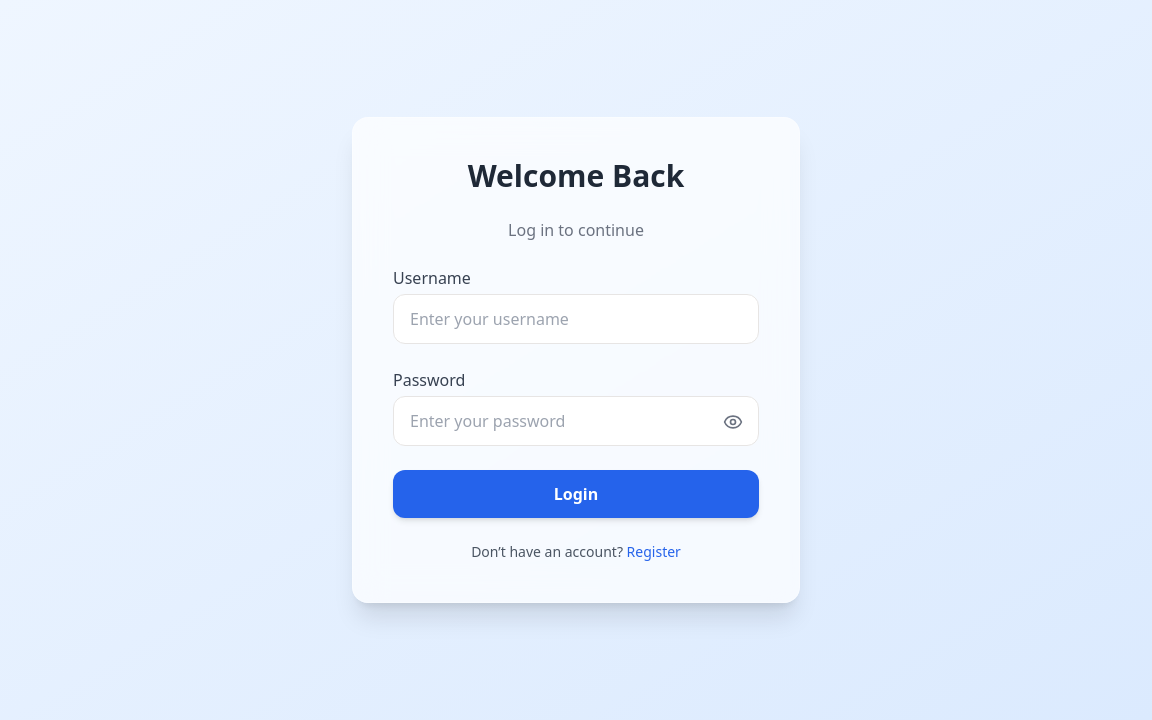
LoginPage › displays error on failed login
Step 1. Type "wronguser" into the field with placeholder "Enter your username" → (576, 319), box [393,294,759,344]
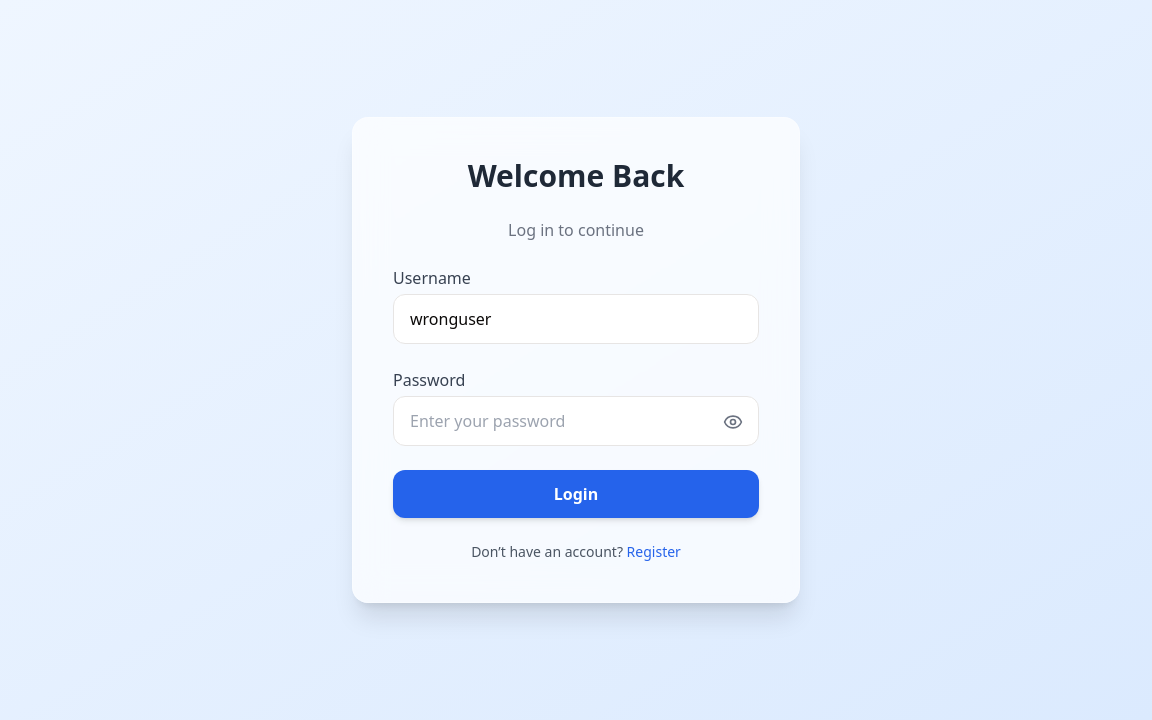
Step 2. Type "wrongpassword" into the password field with placeholder "Enter your password" → (576, 421), box [393,396,759,446]
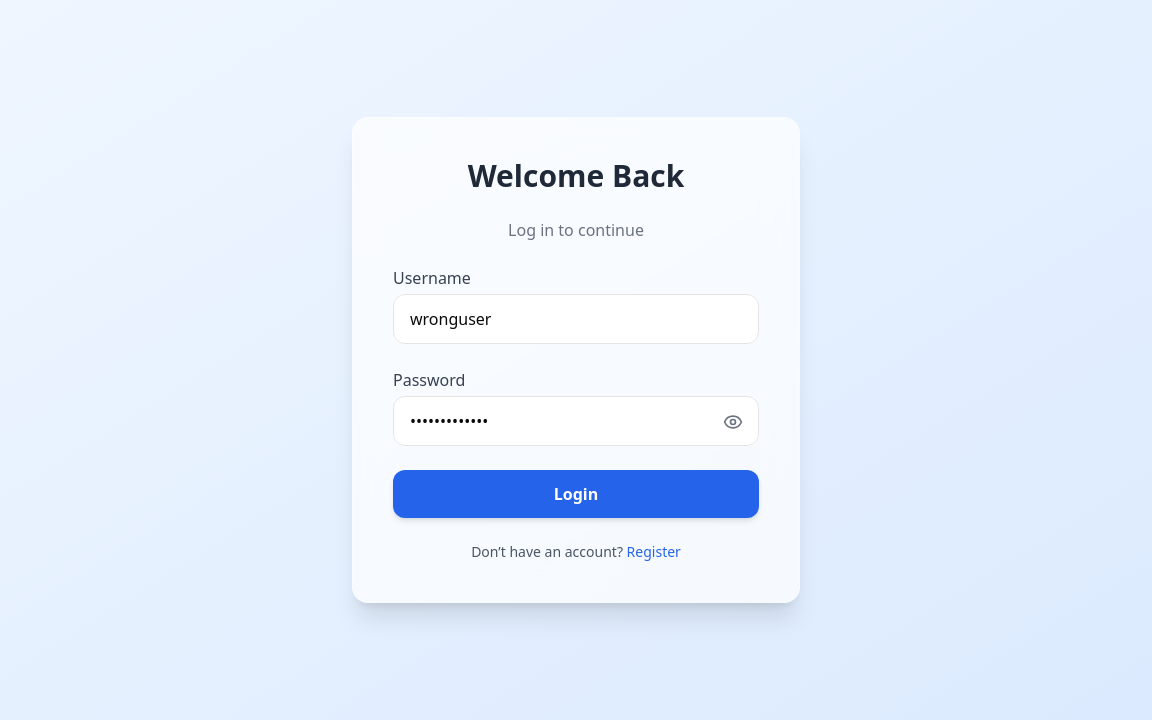
Step 3. Click the button "Login" → (576, 494), box [393,470,759,518]
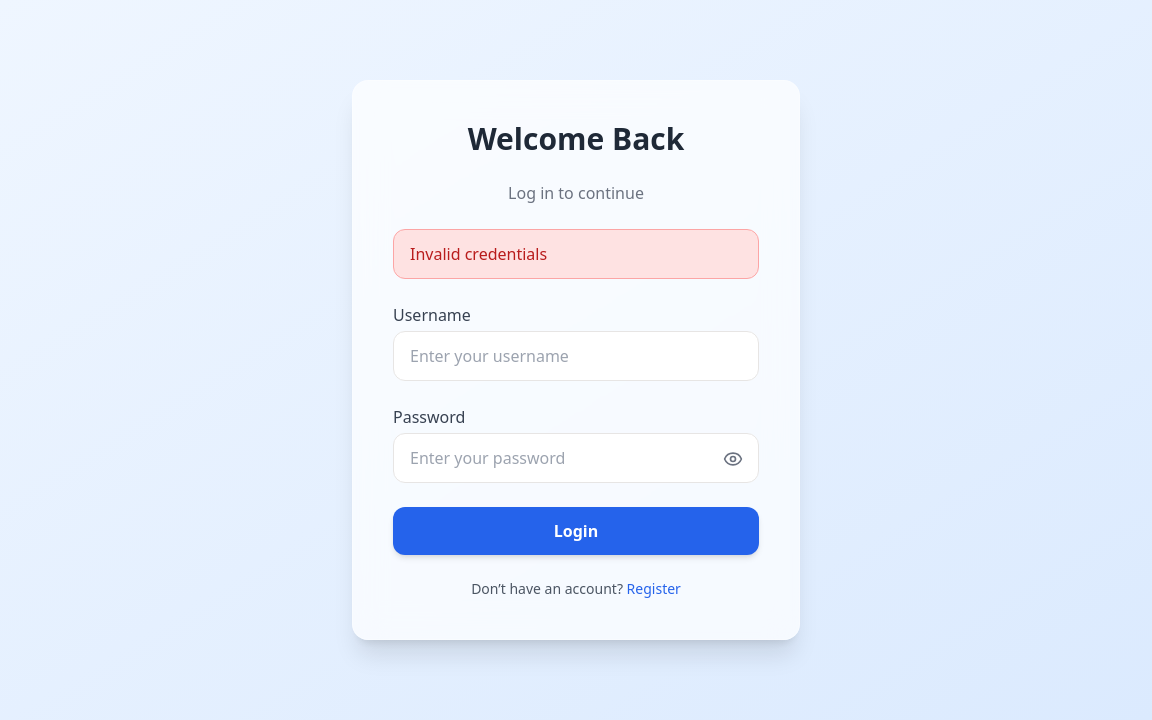
Expected: the text "Invalid credentials" is shown, [393,229,759,279]
